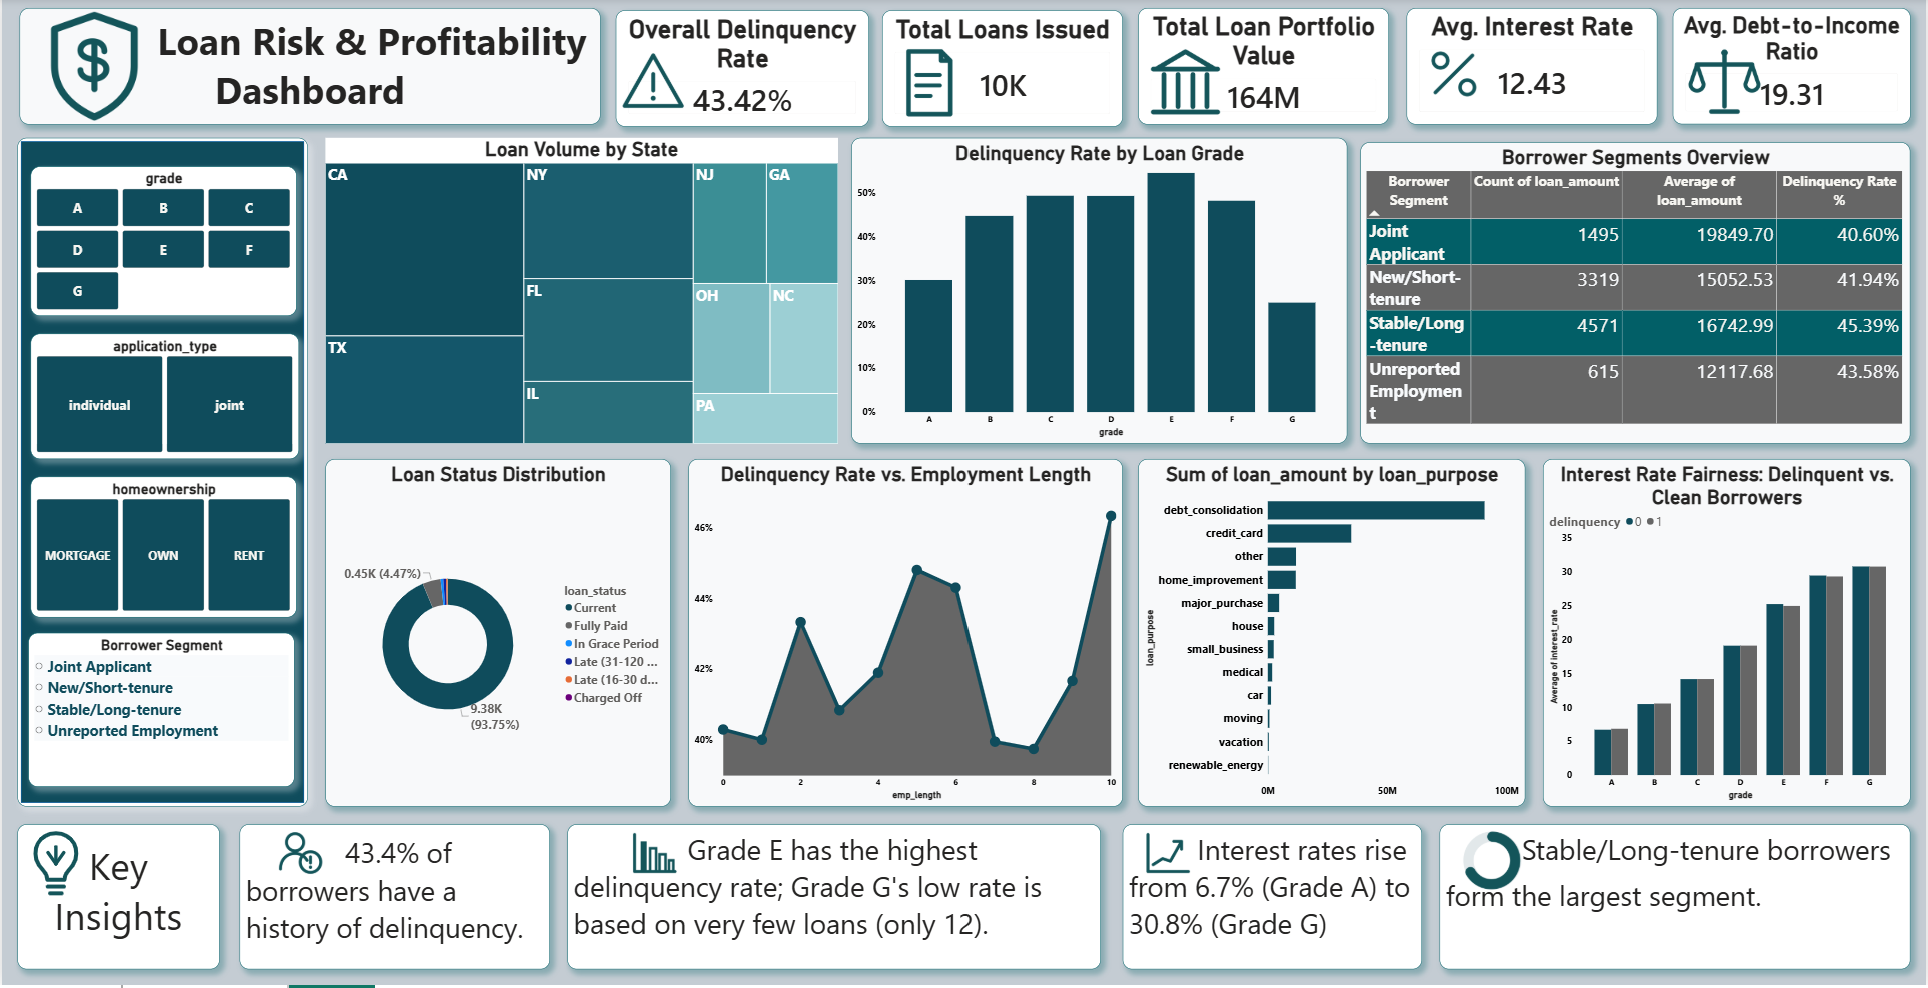

This screenshot's page, from the dashboard's own definition file:
{"tool":"powerbi","page":{"name":"Page 1","canvas":[3700,1900],"ordinal":0},"visuals":[{"type":"cardVisual","title":"Overall Delinquency Rate","fields":{"Data":["loans_full_schema.Delinquency Rate %"]},"box":[1180.6,25.4,486.6,224.3],"z":0},{"type":"clusteredColumnChart","title":"Delinquency Rate by Loan Grade","fields":{"Category":["loans_full_schema.grade"],"Y":["loans_full_schema.Delinquency Rate %"]},"box":[1633.4,270.8,952.1,588.2],"z":1000},{"type":"areaChart","title":"Delinquency Rate vs. Employment Length","fields":{"Category":["loans_full_schema.emp_length"],"Y":["loans_full_schema.Delinquency Rate %"]},"box":[1320.2,888.6,833.6,668.6],"z":2000},{"type":"clusteredColumnChart","title":"Interest Rate Fairness: Delinquent vs. Clean Borrowers","fields":{"Category":["loans_full_schema.grade"],"Y":["Avg(loans_full_schema.interest_rate)"],"Series":["loans_full_schema.had_delinquency"]},"box":[2962,888.6,706.7,668.6],"z":3000},{"type":"pivotTable","title":"Borrower Segments Overview","fields":{"Rows":["loans_full_schema.Borrower Segment"],"Values":["CountNonNull(loans_full_schema.loan_amount)","Avg(loans_full_schema.loan_amount)1","loans_full_schema.Delinquency Rate %"]},"box":[2610.8,279.3,1057.9,579.7],"z":4000},{"type":"treemap","title":"Loan Volume by State","fields":{"Group":["loans_full_schema.state"],"Values":["Sum(loans_full_schema.loan_amount)"]},"box":[622,270.8,985.9,588.2],"z":5000},{"type":"cardVisual","title":"Total Loans Issued","fields":{"Data":["CountNonNull(loans_full_schema.loan_amount)"]},"box":[1692.6,25.4,461.2,224.3],"z":6000},{"type":"cardVisual","title":"\tTotal Loan Portfolio Value","fields":{"Data":["Sum(loans_full_schema.loan_amount)"]},"box":[2183.4,21.2,482.4,224.3],"z":7000},{"type":"cardVisual","title":"Avg. Interest Rate","fields":{"Data":["Avg(loans_full_schema.interest_rate)"]},"box":[2699.7,21.2,482.4,224.3],"z":8000},{"type":"cardVisual","title":"Avg. Debt-to-Income Ratio","fields":{"Data":["Avg(loans_full_schema.debt_to_income)"]},"box":[3210.1,20.3,457.1,223.5],"z":9000},{"type":"shape","box":[29.6,270.8,558.6,1286.4],"z":10000},{"type":"advancedSlicerVisual","fields":{"Values":["loans_full_schema.grade"]},"box":[55,325.8,512,287.7],"z":11000},{"type":"advancedSlicerVisual","fields":{"Values":["loans_full_schema.application_type"]},"box":[55,647.4,516.2,241.2],"z":12000},{"type":"advancedSlicerVisual","fields":{"Values":["loans_full_schema.homeownership"]},"box":[55,922.5,512,270.8],"z":13000},{"type":"listSlicer","fields":{"Values":["loans_full_schema.Borrower Segment"]},"box":[50.8,1222.9,512,296.2],"z":14000},{"type":"donutChart","title":"Loan Status Distribution","fields":{"Y":["CountNonNull(loans_full_schema.loan_amount)"],"Category":["loans_full_schema.loan_status"]},"box":[622,888.6,664.3,668.6],"z":15000},{"type":"textbox","box":[33.9,21.2,1117.1,224.3],"z":16000},{"type":"textbox","box":[29.6,1591,389.3,279.3],"z":17000},{"type":"textbox","box":[457,1591,596.6,279.3],"z":18000},{"type":"textbox","box":[1087.5,1591,1024,279.3],"z":19000},{"type":"textbox","box":[2153.8,1591,575.5,279.3],"z":20000},{"type":"textbox","box":[2763.2,1591,905.5,279.3],"z":21000},{"type":"clusteredBarChart","fields":{"Category":["loans_full_schema.loan_purpose"],"Y":["Sum(loans_full_schema.loan_amount)"]},"box":[2183.4,888.6,744.7,668.6],"z":22000},{"type":"image","box":[1184.8,84.6,135.4,160.8],"z":23000},{"type":"image","box":[1633.4,84.6,300.4,160.8],"z":24000},{"type":"image","box":[2124.2,84.6,300.4,165],"z":25000},{"type":"image","box":[2640.4,84.6,300.4,126.9],"z":26000},{"type":"image","box":[3139.8,84.6,342.7,160.8],"z":27000},{"type":"image","box":[0,8.5,355.4,245.4],"z":28000},{"type":"image","box":[0,1591,207.3,139.6],"z":29000},{"type":"image","box":[457,1591,220,105.8],"z":30000},{"type":"image","box":[1053.6,1591,402,105.8],"z":31000},{"type":"image","box":[2153.8,1591,173.5,105.8],"z":32000},{"type":"image","box":[2699.7,1591,330.1,139.6],"z":33000}]}

Visuals, with their boxes in screenshot pixels (x1, y1, x2, y2), scaled from the page's 3700x1900 canvas onto the 1928x988 screenshot:
"Overall Delinquency Rate" cardVisual: 615/13/869/130
"Delinquency Rate by Loan Grade" clusteredColumnChart: 851/141/1347/447
"Delinquency Rate vs. Employment Length" areaChart: 688/462/1122/810
"Interest Rate Fairness: Delinquent vs. Clean Borrowers" clusteredColumnChart: 1543/462/1912/810
"Borrower Segments Overview" pivotTable: 1360/145/1912/447
"Loan Volume by State" treemap: 324/141/838/447
"Total Loans Issued" cardVisual: 882/13/1122/130
"	Total Loan Portfolio Value" cardVisual: 1138/11/1389/128
"Avg. Interest Rate" cardVisual: 1407/11/1658/128
"Avg. Debt-to-Income Ratio" cardVisual: 1673/11/1911/127
shape: 15/141/306/810
advancedSlicerVisual - loans_full_schema.grade: 29/169/295/319
advancedSlicerVisual - loans_full_schema.application_type: 29/337/298/462
advancedSlicerVisual - loans_full_schema.homeownership: 29/480/295/621
listSlicer - loans_full_schema.Borrower Segment: 26/636/293/790
"Loan Status Distribution" donutChart: 324/462/670/810
textbox: 18/11/600/128
textbox: 15/827/218/973
textbox: 238/827/549/973
textbox: 567/827/1100/973
textbox: 1122/827/1422/973
textbox: 1440/827/1912/973
clusteredBarChart - loans_full_schema.loan_purpose x Sum(loans_full_schema.loan_amount): 1138/462/1526/810
image: 617/44/688/128
image: 851/44/1008/128
image: 1107/44/1263/130
image: 1376/44/1532/110
image: 1636/44/1815/128
image: 0/4/185/132
image: 0/827/108/900
image: 238/827/353/882
image: 549/827/758/882
image: 1122/827/1213/882
image: 1407/827/1579/900
